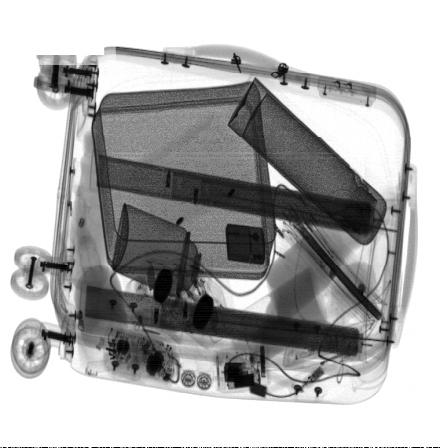Lighter: (225, 223, 265, 265)
Sprayer: (112, 200, 216, 304)
